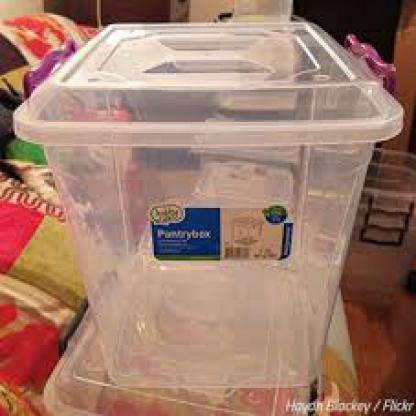plastic_box: (6, 6, 405, 397)
